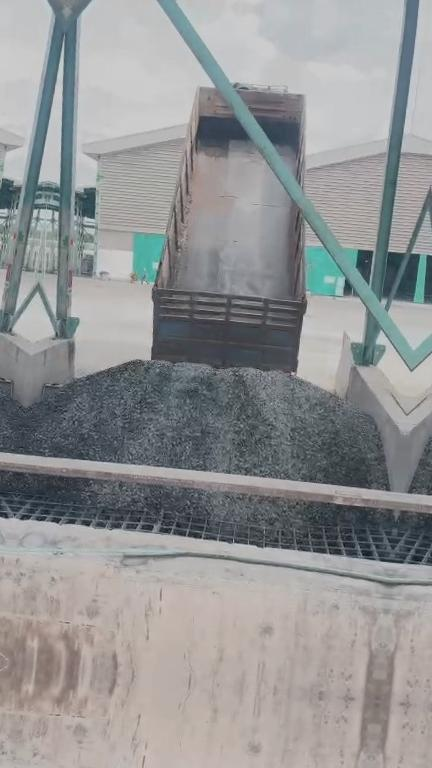gravel: (21, 361, 387, 487), (17, 474, 390, 526)
